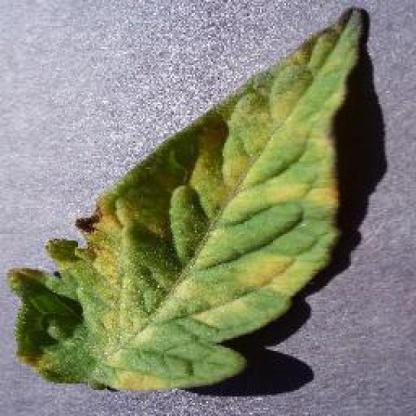Tomato_Leaf_Mold: (15, 10, 362, 388)
